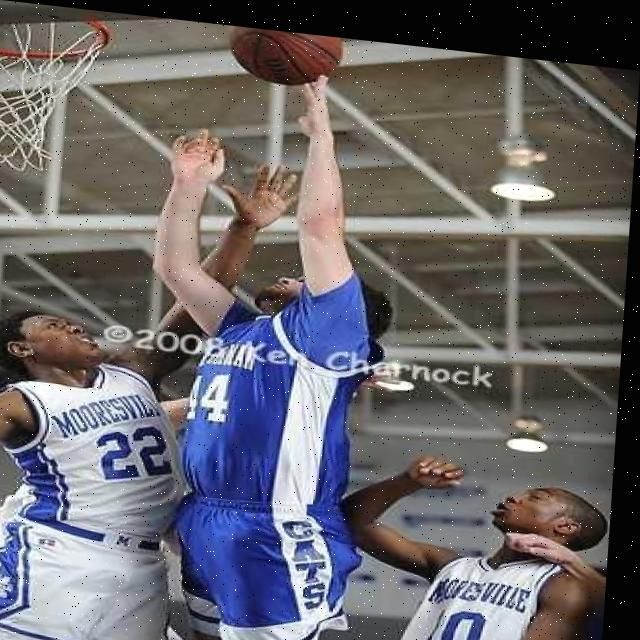basketball: (226, 25, 346, 90)
hoop: (0, 7, 115, 180)
